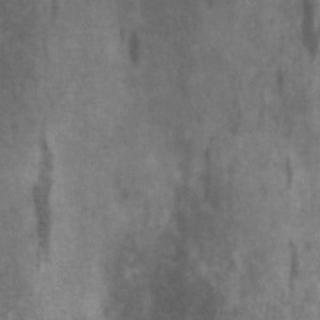inclusion: (112, 173, 228, 313), (26, 125, 62, 269), (110, 22, 146, 74), (272, 239, 300, 301), (290, 0, 316, 58)
